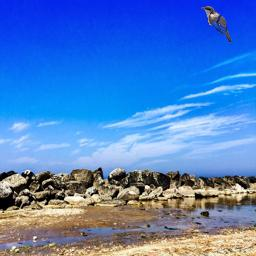Cuckoo: (200, 5, 232, 43)
